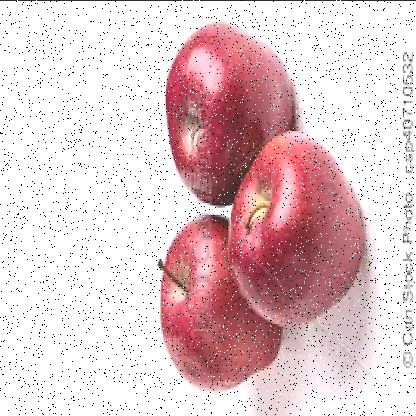apple: (231, 133, 354, 323), (163, 25, 293, 200), (162, 212, 278, 396)
